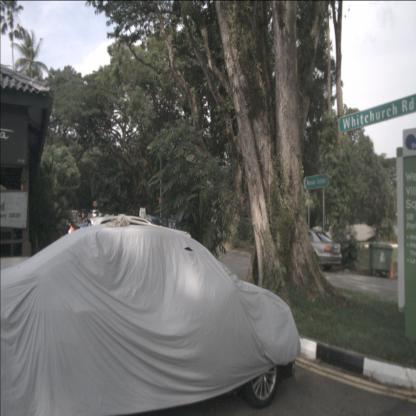cone: (388, 259, 395, 280)
